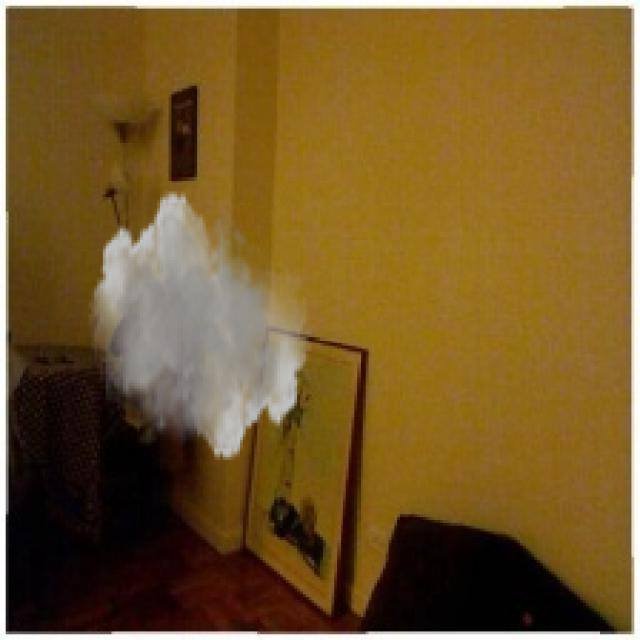Smoke: (88, 188, 312, 463)
